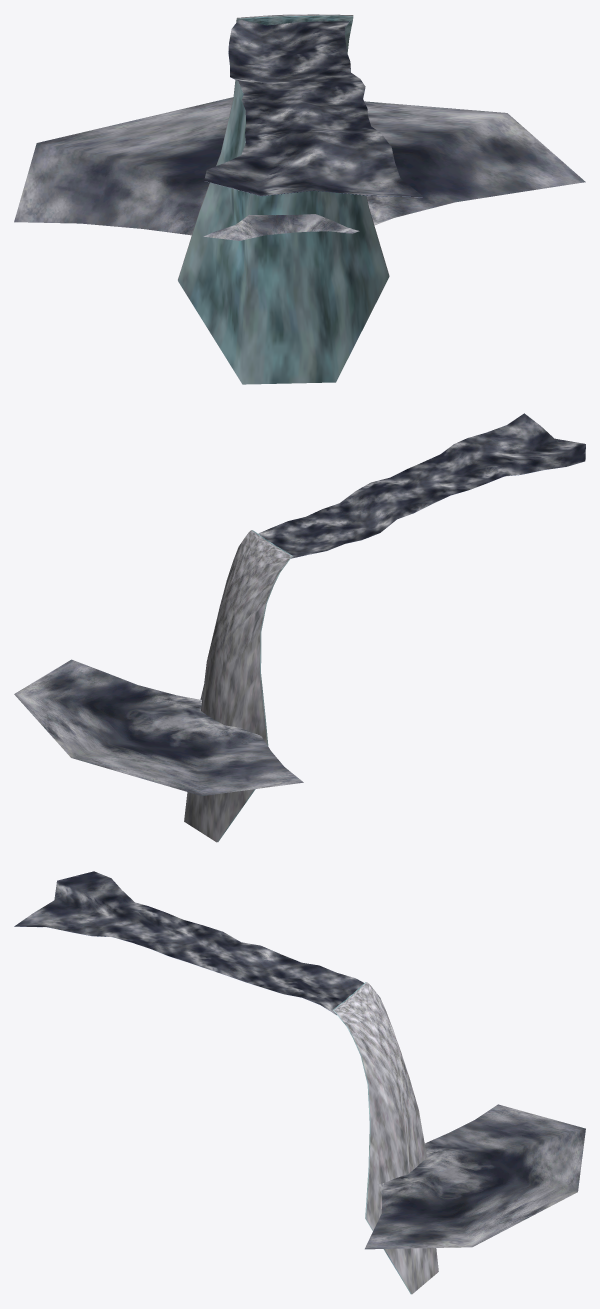
File: RM_PLAYSURFACE_FINAL_MAINHALL_WATERFALL_BILLOWS01.fbx
The picture shows the model from 3 angles, top to bottom: view 1: azimuth 30°, elevation 25°; view 2: azimuth 150°, elevation 25°; view 3: azimuth 270°, elevation 25°; orthographic projection. The views are drawn at different scales.
Visible parts, largest first — view 1: RM_PLAYSURFACE_FINAL_MAINHALL_WATERFALL_BILLOWS01; view 2: RM_PLAYSURFACE_FINAL_MAINHALL_WATERFALL_BILLOWS01; view 3: RM_PLAYSURFACE_FINAL_MAINHALL_WATERFALL_BILLOWS01.
Part boxes in pixels (<box>): RM_PLAYSURFACE_FINAL_MAINHALL_WATERFALL_BILLOWS01: <box>14,14,585,384</box>; RM_PLAYSURFACE_FINAL_MAINHALL_WATERFALL_BILLOWS01: <box>14,413,585,842</box>; RM_PLAYSURFACE_FINAL_MAINHALL_WATERFALL_BILLOWS01: <box>14,871,585,1294</box>.
Bounding box in the file's own units: 53406 × 40498 × 68930.
5 materials, 5 textured.
